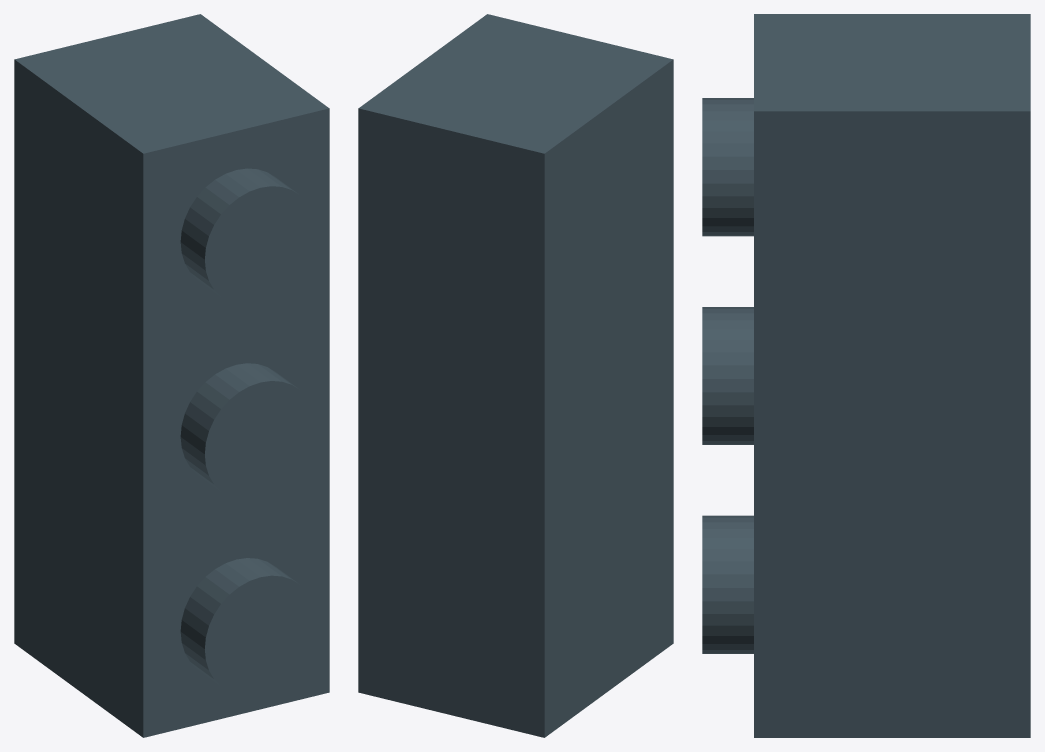
Rendered from current.glb.
3 renders of one model, left to right at view 1: azimuth 30°, elevation 25°; view 2: azimuth 150°, elevation 25°; view 3: azimuth 270°, elevation 25°, orthographic. The views are drawn at different scales.
Parts seen in each view (by area): view 1: world; view 2: world; view 3: world.
Boxes of the visible parts, box(x1,y1,x2,y2) form: world: box(14, 14, 329, 737); world: box(358, 14, 673, 737); world: box(702, 14, 1030, 737).
Size of the model in its own units: 8 by 24 by 11.4.
